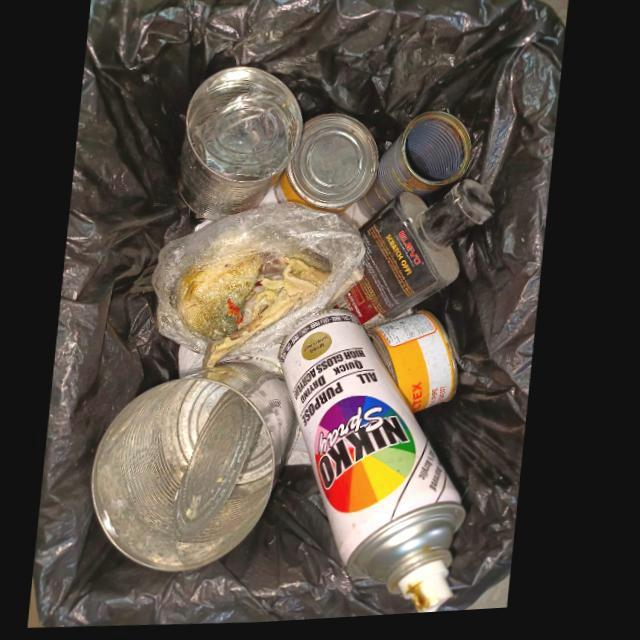aluminum: (287, 319, 470, 618), (98, 361, 304, 575), (179, 69, 305, 224), (359, 116, 475, 222), (278, 118, 381, 218), (371, 317, 464, 420)
left_over_food: (176, 251, 336, 374)
plastic_bag: (154, 205, 372, 369)
plastic_bottle: (337, 186, 497, 326)
